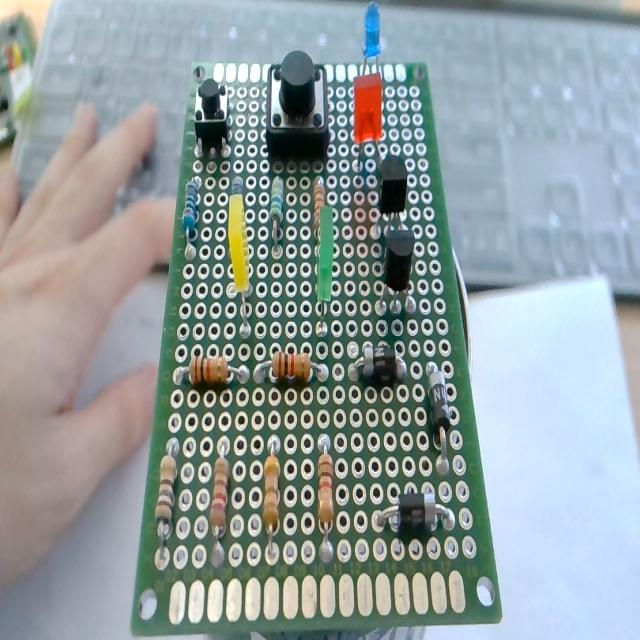diode: (372, 474, 463, 538), (418, 347, 448, 463), (349, 346, 409, 394)
led: (224, 186, 256, 330), (350, 70, 392, 166), (311, 204, 337, 332), (359, 0, 388, 68)
resistor: (308, 432, 342, 556), (208, 441, 244, 553), (170, 348, 242, 398), (262, 342, 328, 396), (258, 434, 286, 556), (158, 422, 180, 553), (182, 167, 205, 260), (265, 169, 287, 253)
switch: (262, 47, 336, 180), (191, 78, 232, 158)
transistor: (378, 223, 418, 316), (374, 148, 407, 233)
